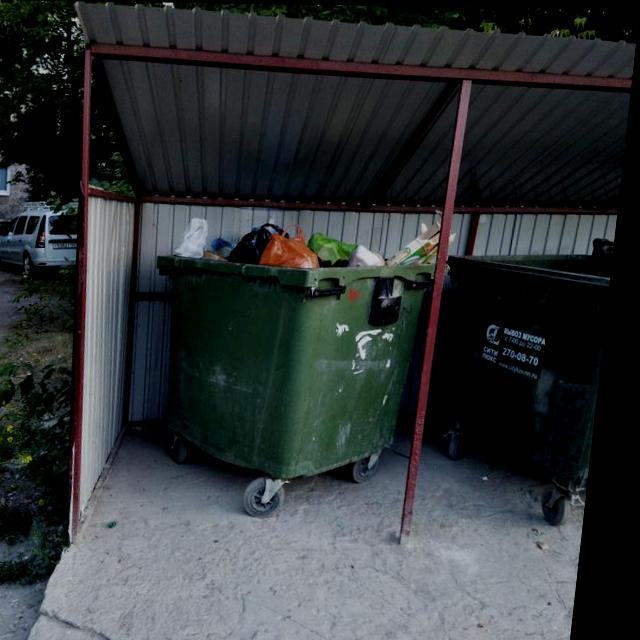Trash_Can_Empty: (435, 248, 619, 495)
Trash_Can_Full: (143, 215, 446, 482)
